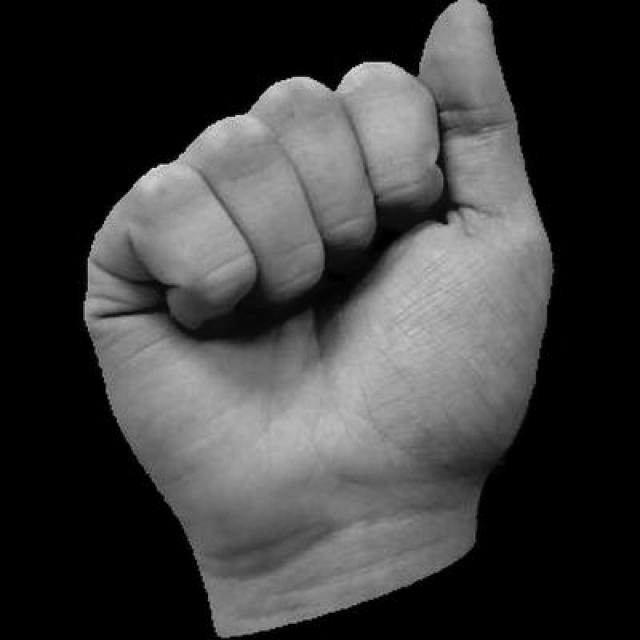A: (79, 0, 559, 638)
